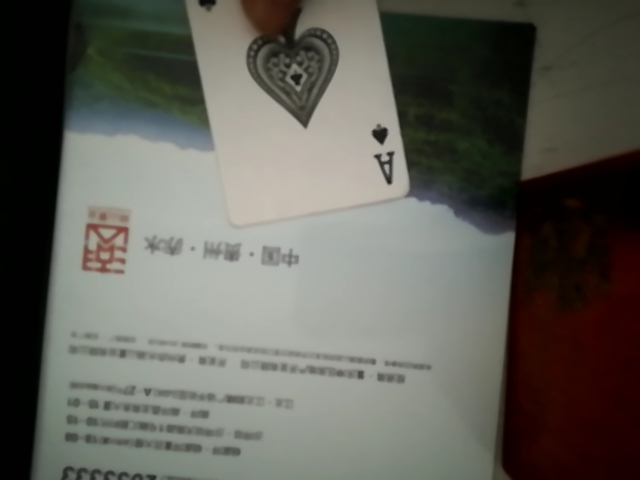ht a: (181, 7, 403, 225)
